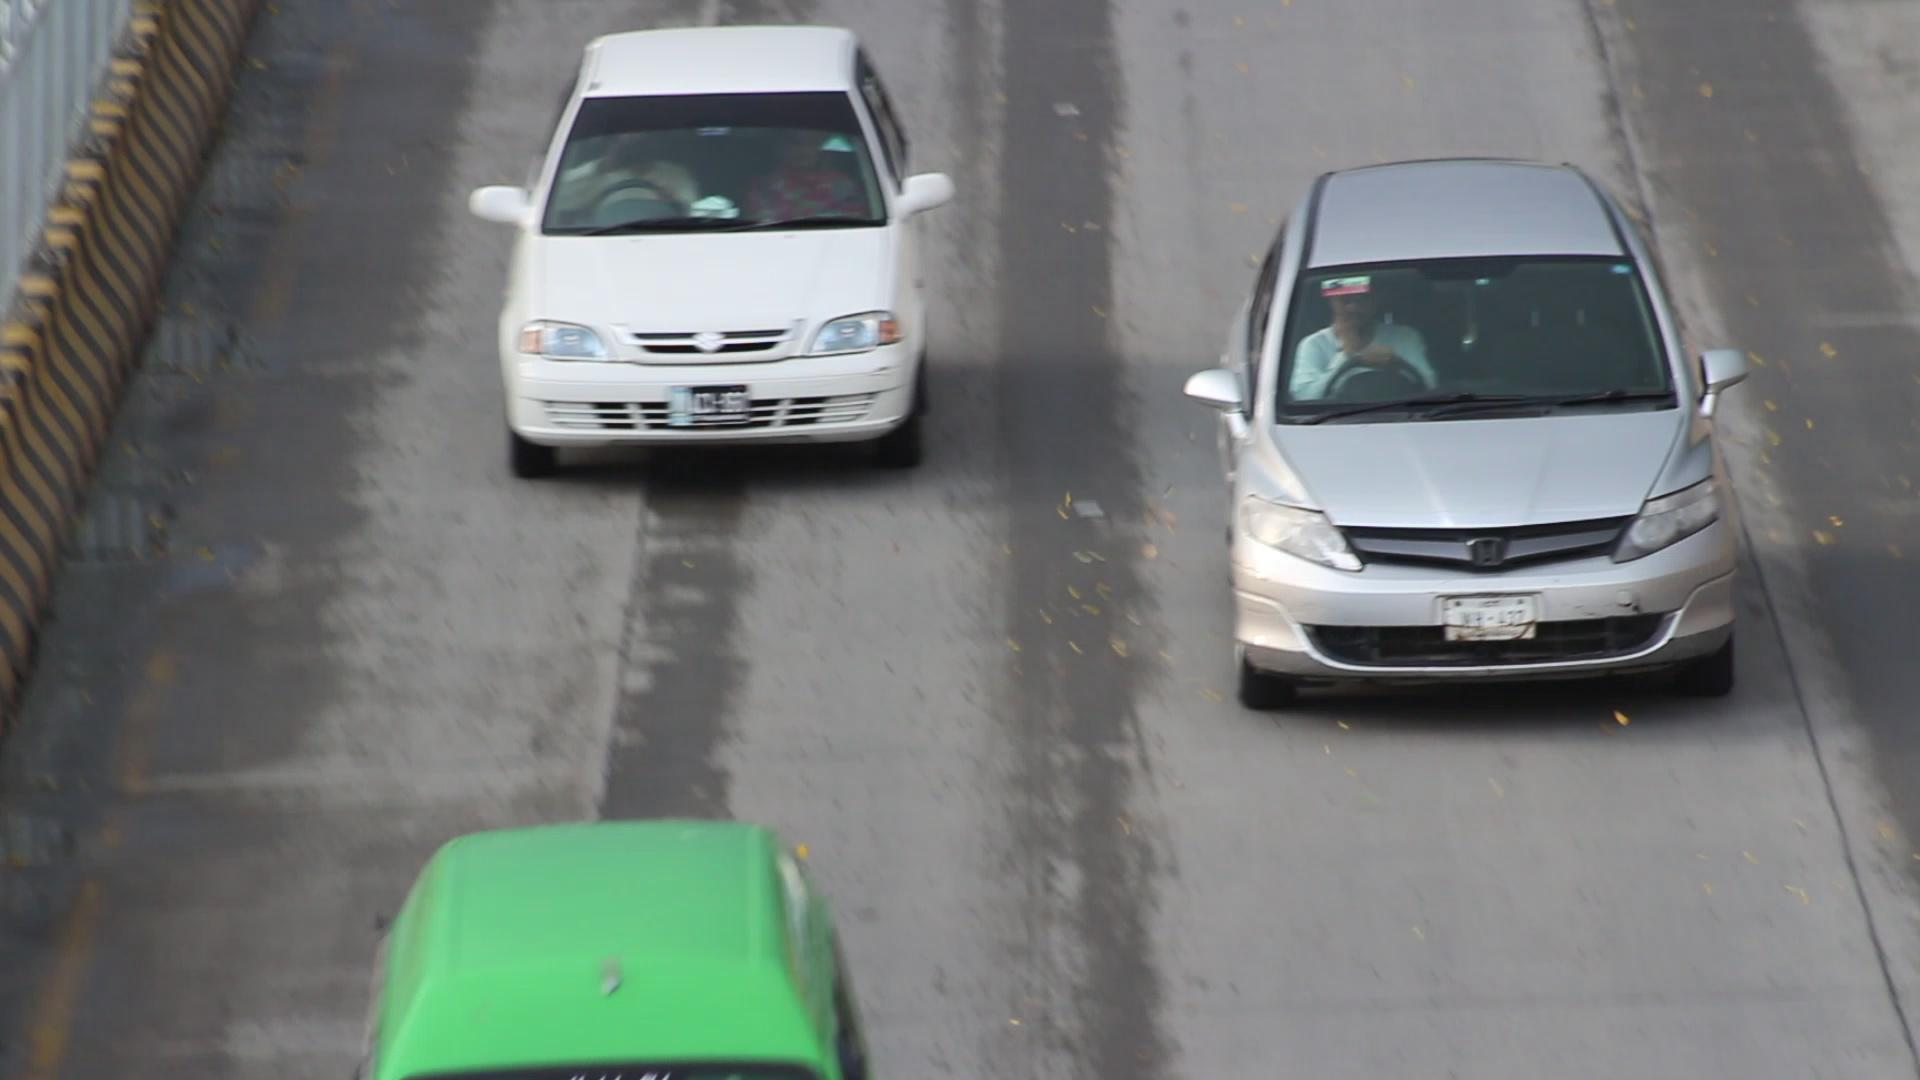windshield: (1267, 229, 1691, 423), (530, 76, 907, 236)
